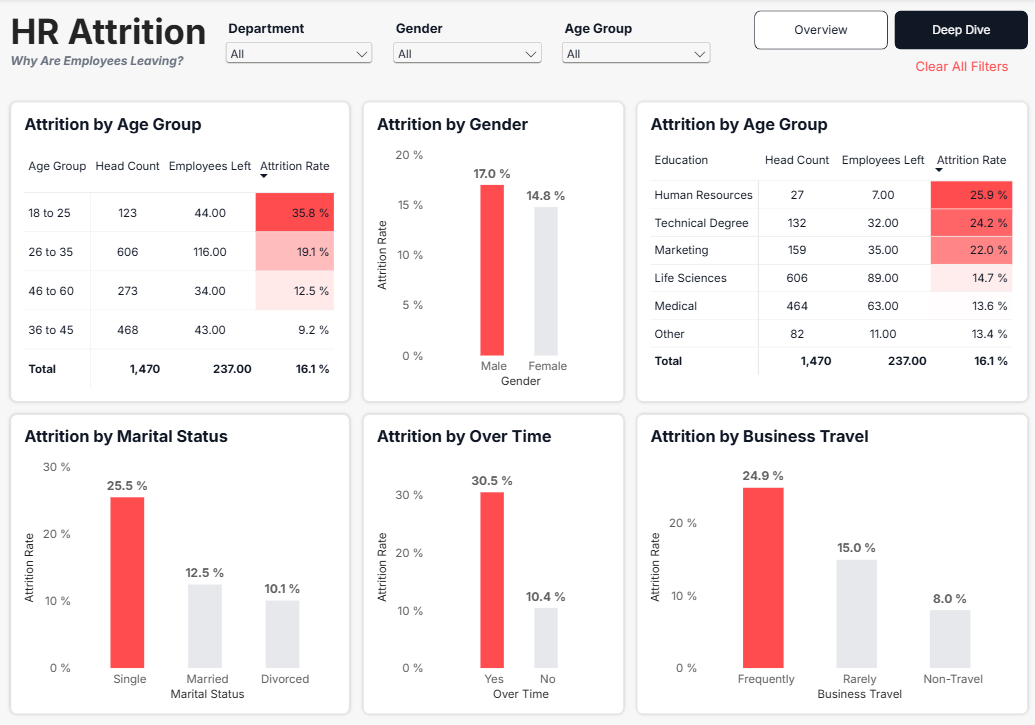

The page's visual inventory and layout, read from the dashboard file:
{"tool":"powerbi","page":{"name":"Deep Dive","canvas":[1280,900],"ordinal":1},"visuals":[{"type":"slicer","fields":{"Values":["hr_employees.Age Group"]},"box":[688,28.3,192,64],"z":0,"group":"g3"},{"type":"actionButton","title":"Clear Slicers","box":[1104,68,160,32],"z":0,"group":"g2"},{"type":"group","id":"g1","title":"Visuals","box":[16,128,1248,752],"z":0},{"type":"columnChart","title":"Attrition by Business Travel","fields":{"Category":["hr_employees.BusinessTravel"],"Y":["hr_employees.Attrition Rate"]},"box":[784,512,480,368],"z":0,"group":"g1"},{"type":"columnChart","title":"Attrition by Over Time","fields":{"Category":["hr_employees.OverTime"],"Y":["hr_employees.Attrition Rate"]},"box":[448,512,320,368],"z":500,"group":"g1"},{"type":"group","id":"g2","title":"Header","box":[16,16,1248,84],"z":1000},{"type":"pageNavigator","title":"Page Navigator","box":[928,16,336,48],"z":1000,"group":"g2"},{"type":"slicer","fields":{"Values":["hr_employees.Gender"]},"box":[480,28.3,192,64],"z":1000,"group":"g3"},{"type":"columnChart","title":"Attrition by Marital Status","fields":{"Category":["hr_employees.MaritalStatus"],"Y":["hr_employees.Attrition Rate"]},"box":[16,512,416,368],"z":1500,"group":"g1"},{"type":"pivotTable","title":"Attrition by Age Group","fields":{"Rows":["hr_employees.EducationField"],"Values":["hr_employees.Head Count","hr_employees.Employees Left","hr_employees.Attrition Rate"]},"box":[784,128,480,368],"z":1750,"group":"g1"},{"type":"group","id":"g3","title":"Slicers","box":[274.8,28,605.2,64.3],"z":2000,"group":"g2"},{"type":"slicer","fields":{"Values":["hr_employees.Department"]},"box":[274.8,28,190,64],"z":2000,"group":"g3"},{"type":"columnChart","title":"Attrition by Gender","fields":{"Category":["hr_employees.Gender"],"Y":["hr_employees.Attrition Rate"]},"box":[448,128,320,368],"z":2000,"group":"g1"},{"type":"pivotTable","title":"Attrition by Age Group","fields":{"Rows":["hr_employees.Age Group"],"Values":["hr_employees.Head Count","hr_employees.Employees Left","hr_employees.Attrition Rate"]},"box":[16,128,416,368],"z":2500,"group":"g1"},{"type":"textbox","title":"Subtitle","box":[16,68,224,32],"z":3000,"group":"g2"},{"type":"textbox","title":"Title","box":[16,16,256,64],"z":4000,"group":"g2"}]}

Visuals, with their boxes in screenshot pixels (x1, y1, x2, y2), scaled from the page's 1280x900 canvas onto the 1035x725 screenshot:
slicer - hr_employees.Age Group: BBox(556, 23, 712, 74)
"Clear Slicers" actionButton: BBox(893, 55, 1022, 81)
"Visuals" group: BBox(13, 103, 1022, 709)
"Attrition by Business Travel" columnChart: BBox(634, 412, 1022, 709)
"Attrition by Over Time" columnChart: BBox(362, 412, 621, 709)
"Header" group: BBox(13, 13, 1022, 81)
"Page Navigator" pageNavigator: BBox(750, 13, 1022, 52)
slicer - hr_employees.Gender: BBox(388, 23, 543, 74)
"Attrition by Marital Status" columnChart: BBox(13, 412, 349, 709)
"Attrition by Age Group" pivotTable: BBox(634, 103, 1022, 400)
"Slicers" group: BBox(222, 23, 712, 74)
slicer - hr_employees.Department: BBox(222, 23, 376, 74)
"Attrition by Gender" columnChart: BBox(362, 103, 621, 400)
"Attrition by Age Group" pivotTable: BBox(13, 103, 349, 400)
"Subtitle" textbox: BBox(13, 55, 194, 81)
"Title" textbox: BBox(13, 13, 220, 64)
